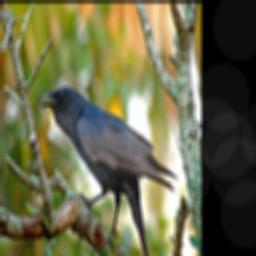Crow: (39, 86, 179, 256)
